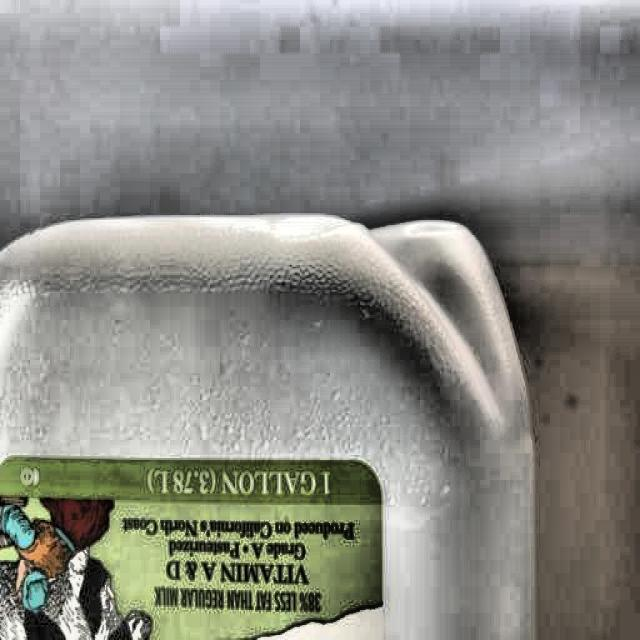plastic: (0, 214, 542, 640)
